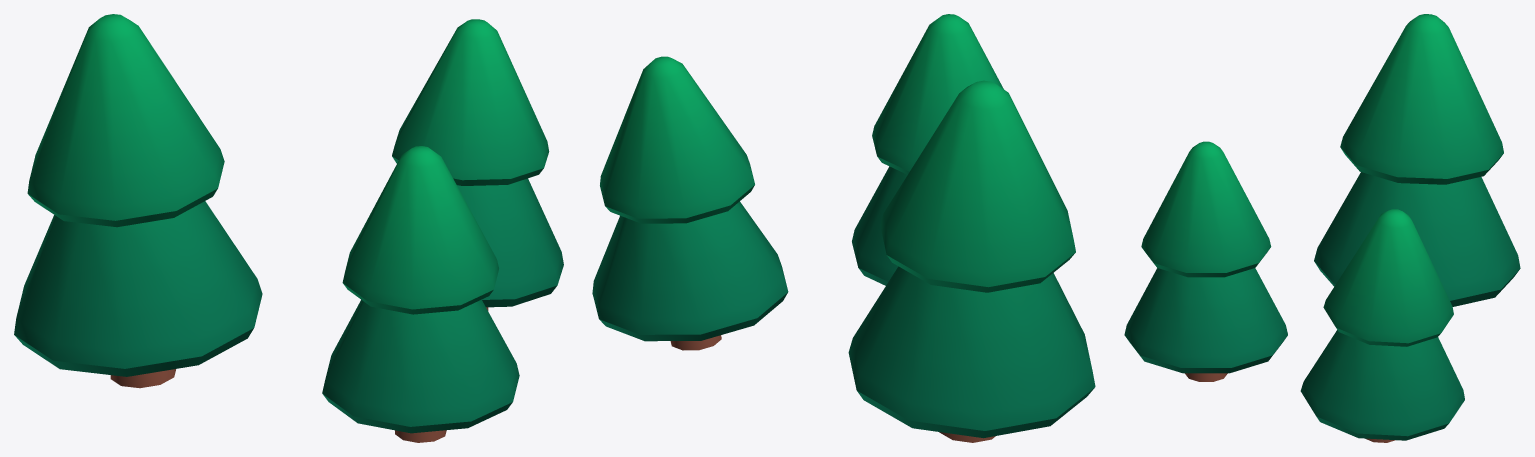
The model's file is hex-trees_B_small.glb.
3 views of the same model, side by side, from view 1: azimuth 30°, elevation 25°; view 2: azimuth 150°, elevation 25°; view 3: azimuth 270°, elevation 25° (orthographic). The views are drawn at different scales.
Visible parts, largest first — view 1: trees_B_small; view 2: trees_B_small; view 3: trees_B_small.
Part boxes in pixels (x1,y1,x2,y2): trees_B_small: [14, 14, 563, 442]; trees_B_small: [592, 14, 1095, 442]; trees_B_small: [1124, 14, 1520, 442].
Size of the model in its own units: 1.33 by 0.9219 by 1.14.
1 material, 1 textured.
